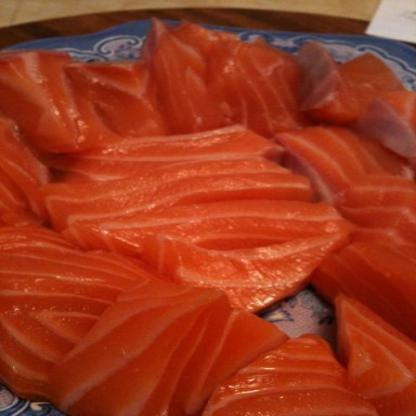salmon: (0, 26, 415, 415)
